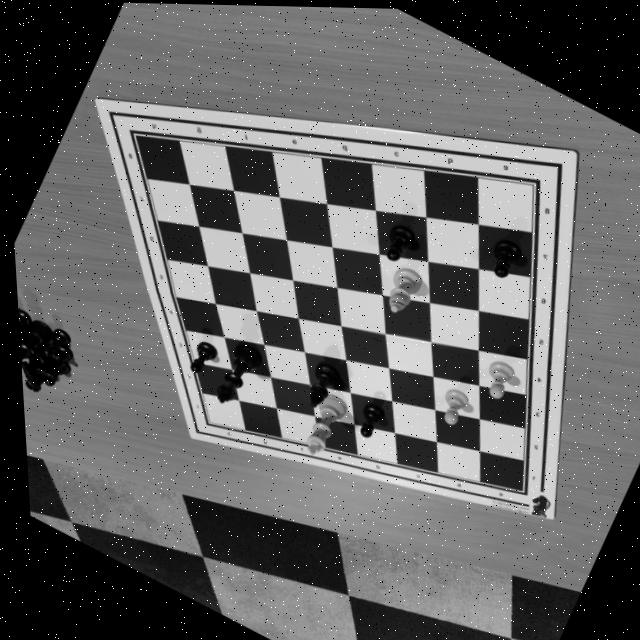chessboard: (129, 132, 533, 492)
